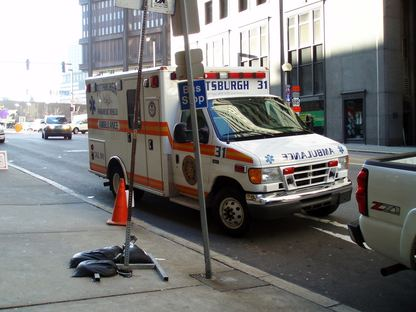ambulance: (85, 66, 353, 238)
car: (347, 153, 415, 276), (42, 115, 72, 140)
